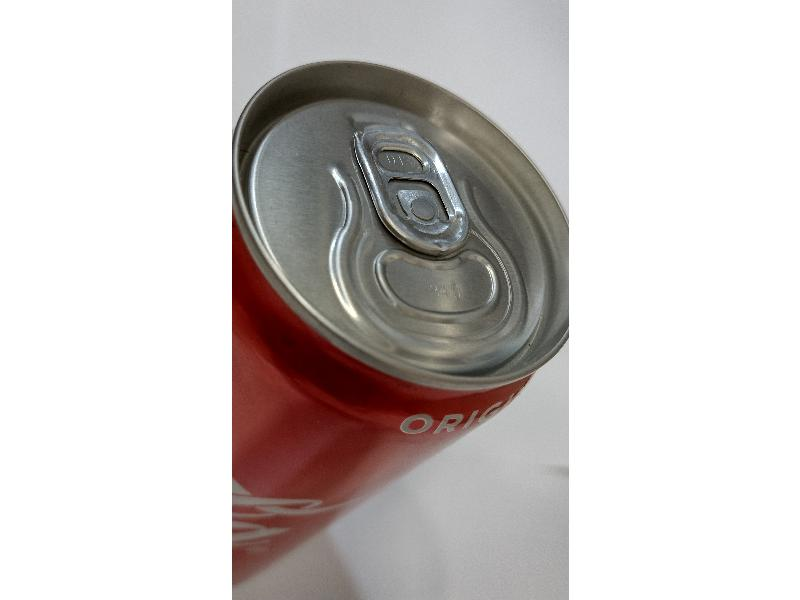can: (231, 54, 568, 416)
